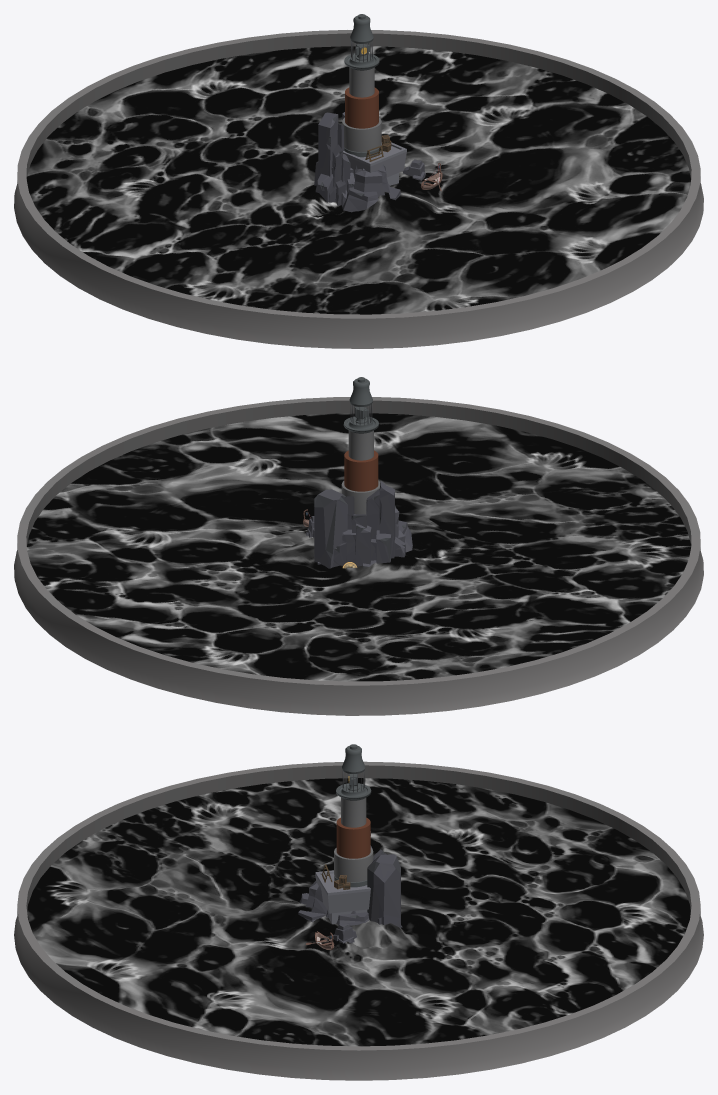
Rendered from lighthouse.glb.
The picture shows the model from 3 angles, top to bottom: view 1: azimuth 30°, elevation 25°; view 2: azimuth 150°, elevation 25°; view 3: azimuth 270°, elevation 25°; orthographic projection.
Visible parts, largest first — view 1: water, frame, SM_Env_RockPile_Pillar_01.001, Cylinder, Cube; view 2: water, frame, SM_Env_RockPile_Pillar_01.001, Cylinder; view 3: water, frame, Cylinder, SM_Env_RockPile_Pillar_01.001, Cube.
Part boxes in pixels (bbox=[...]): water: bbox=[27, 46, 690, 314]; frame: bbox=[14, 30, 703, 348]; SM_Env_RockPile_Pillar_01.001: bbox=[314, 112, 401, 212]; Cylinder: bbox=[342, 14, 381, 157]; Cube: bbox=[343, 142, 406, 185]; water: bbox=[27, 413, 690, 681]; frame: bbox=[14, 397, 703, 715]; SM_Env_RockPile_Pillar_01.001: bbox=[314, 481, 412, 568]; Cylinder: bbox=[341, 377, 380, 514]; water: bbox=[27, 778, 690, 1046]; frame: bbox=[14, 761, 703, 1080]; Cylinder: bbox=[334, 744, 373, 887]; SM_Env_RockPile_Pillar_01.001: bbox=[298, 831, 402, 927]; Cube: bbox=[315, 870, 370, 924].
Bounding box in the file's own units: 35.38 × 10.71 × 35.38.
Materials: 7 (7 with a texture image).
